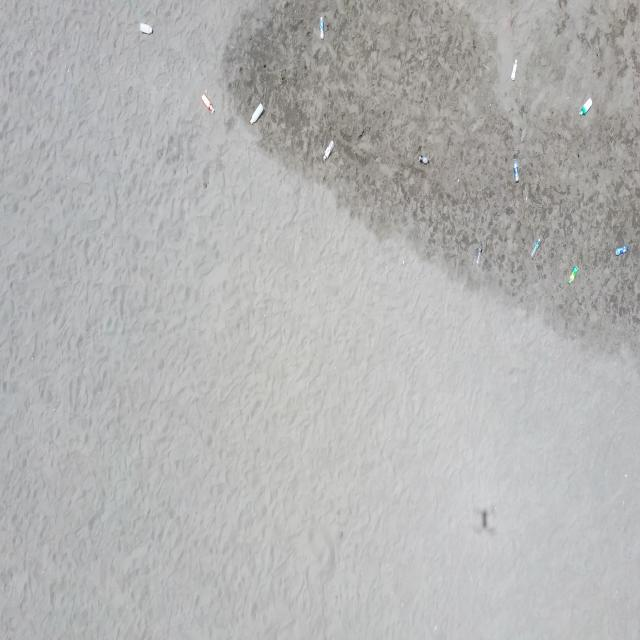Garbage: (249, 105, 263, 123), (200, 92, 212, 111), (580, 96, 591, 115), (529, 238, 540, 256), (567, 266, 577, 283), (324, 140, 332, 160), (512, 159, 519, 181), (475, 243, 482, 263), (615, 244, 627, 255), (139, 22, 150, 33), (417, 154, 427, 163), (320, 16, 324, 37), (512, 60, 516, 80)
